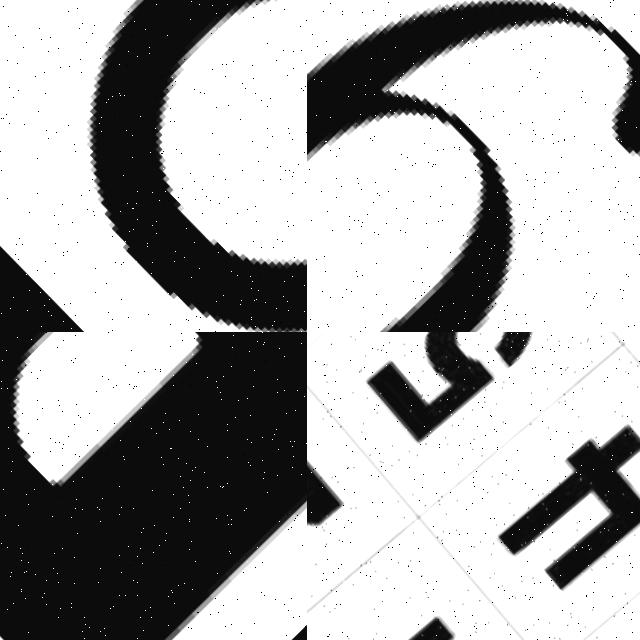1: (307, 599, 457, 640)
2: (307, 419, 354, 631)
4: (472, 395, 640, 619)
5: (349, 332, 560, 461)
9: (307, 0, 640, 332)
D: (0, 332, 307, 640)
Q: (0, 0, 307, 332)
